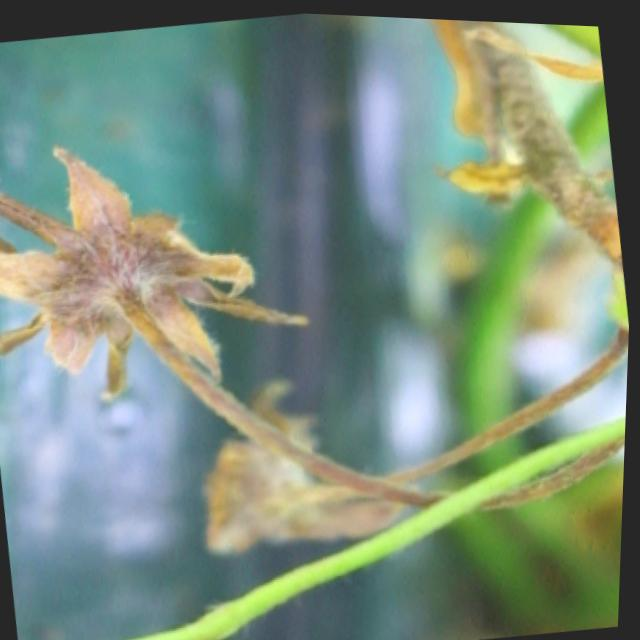Gray Mold: (0, 144, 313, 408)
